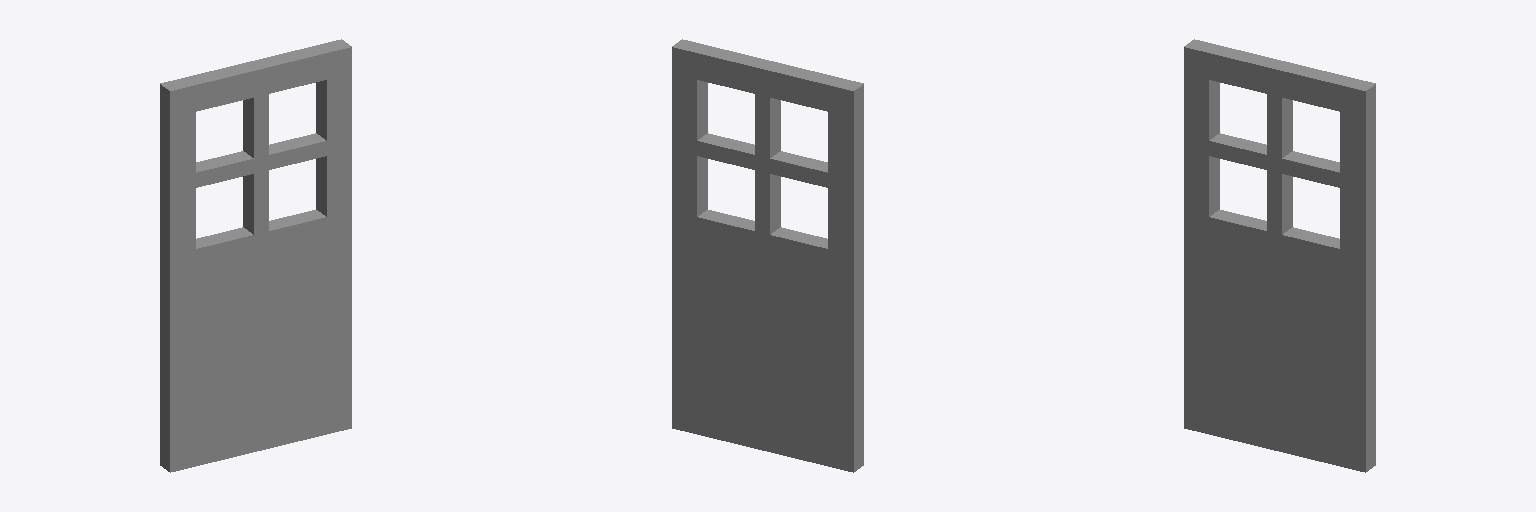
The model's file is door.obj.
3 renders of one model, left to right at view 1: azimuth 30°, elevation 25°; view 2: azimuth 150°, elevation 25°; view 3: azimuth 330°, elevation 25°, orthographic.
Visible parts, largest first — view 1: Cube; view 2: Cube; view 3: Cube.
Boxes of the visible parts, box(x1,y1,x2,y2) form: Cube: box(160, 39, 351, 472); Cube: box(672, 39, 863, 472); Cube: box(1184, 39, 1375, 472).
Bounding box in the file's own units: 1 × 2 × 0.1.